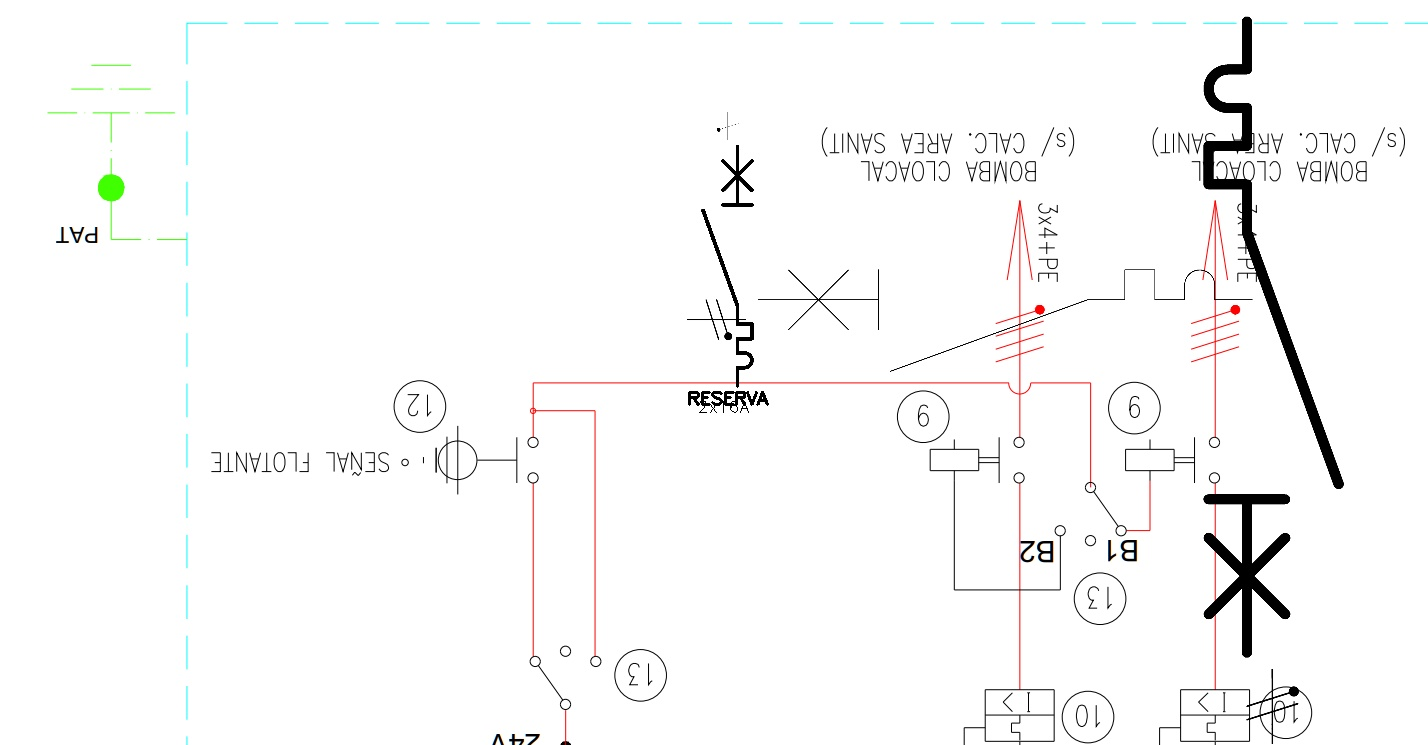interruptor_termomagnetico: (1192, 5, 1354, 669), (745, 257, 1264, 384), (697, 140, 758, 392)
